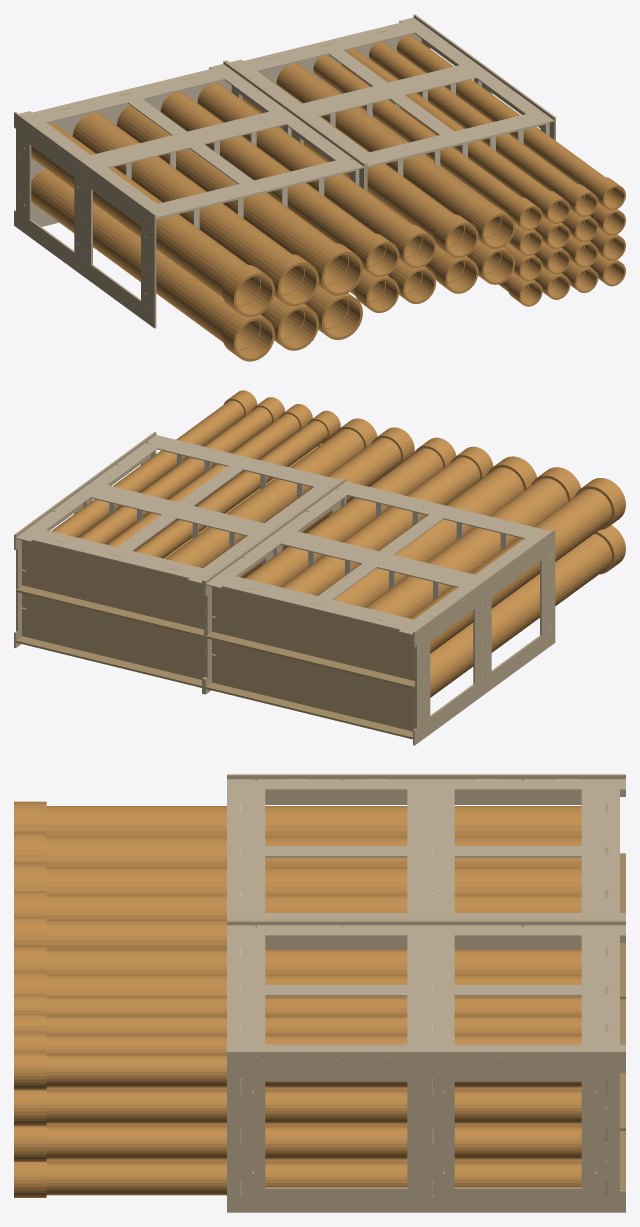
The model's file is cso_tarto_V1_csovekkel.glb.
The picture shows the model from 3 angles, top to bottom: view 1: azimuth 30°, elevation 25°; view 2: azimuth 150°, elevation 25°; view 3: azimuth 270°, elevation 25°; orthographic projection. The views are drawn at different scales.
Visible parts, largest first — view 1: A_hatfal, B_hatfal, A_oldalfal_bal, cso_DN200_02, cso_DN200_03, cso_DN200_05, cso_DN200_01, cso_DN150_07, cso_DN150_09, cso_DN150_13, cso_DN100_15, cso_DN100_27 (+28 smaller); view 2: A_padlo, B_padlo, A_hatfal, B_hatfal, A_oldalfal_bal, cso_DN200_02, cso_DN200_03, cso_DN150_07, cso_DN150_09, cso_DN150_13, cso_DN200_05, cso_DN200_01 (+13 smaller); view 3: B_oldalfal_jobb, A_hatfal, B_hatfal, cso_DN100_28, cso_DN100_29, cso_DN200_01, cso_DN100_30, cso_DN200_05, cso_DN150_11, cso_DN200_03, cso_DN150_07, cso_DN100_19 (+13 smaller).
Part boxes in pixels (x1,y1,x2,y2): A_hatfal: [19, 64, 363, 218]; B_hatfal: [230, 17, 554, 166]; A_oldalfal_bal: [14, 112, 156, 328]; cso_DN200_02: [31, 169, 274, 361]; cso_DN200_03: [72, 113, 318, 306]; cso_DN200_05: [116, 105, 362, 295]; cso_DN200_01: [31, 123, 274, 317]; cso_DN150_07: [160, 92, 399, 277]; cso_DN150_09: [197, 83, 436, 268]; cso_DN150_13: [276, 63, 515, 248]; cso_DN100_15: [313, 55, 542, 230]; cso_DN100_27: [396, 35, 625, 210]; A_padlo: [212, 587, 421, 731]; B_padlo: [22, 540, 204, 679]; A_hatfal: [205, 481, 550, 635]; B_hatfal: [15, 435, 339, 584]; A_oldalfal_bal: [413, 529, 555, 745]; cso_DN200_02: [430, 525, 625, 697]; cso_DN200_03: [365, 467, 580, 618]; cso_DN150_07: [281, 446, 493, 595]; cso_DN150_09: [244, 437, 456, 586]; cso_DN150_13: [166, 418, 377, 567]; cso_DN200_05: [334, 456, 536, 607]; cso_DN200_01: [409, 478, 625, 653]; B_oldalfal_jobb: [227, 1050, 625, 1212]; A_hatfal: [227, 779, 625, 918]; B_hatfal: [227, 925, 625, 1057]; cso_DN100_28: [14, 1090, 597, 1126]; cso_DN100_29: [14, 1126, 581, 1161]; cso_DN200_01: [14, 801, 581, 836]; cso_DN100_30: [14, 1162, 596, 1197]; cso_DN200_05: [14, 862, 581, 894]; cso_DN150_11: [14, 946, 581, 974]; cso_DN200_03: [14, 832, 581, 866]; cso_DN150_07: [14, 891, 581, 920]; cso_DN100_19: [14, 1014, 581, 1035].
Size of the model in its own units: 2224 by 600 by 2070.
